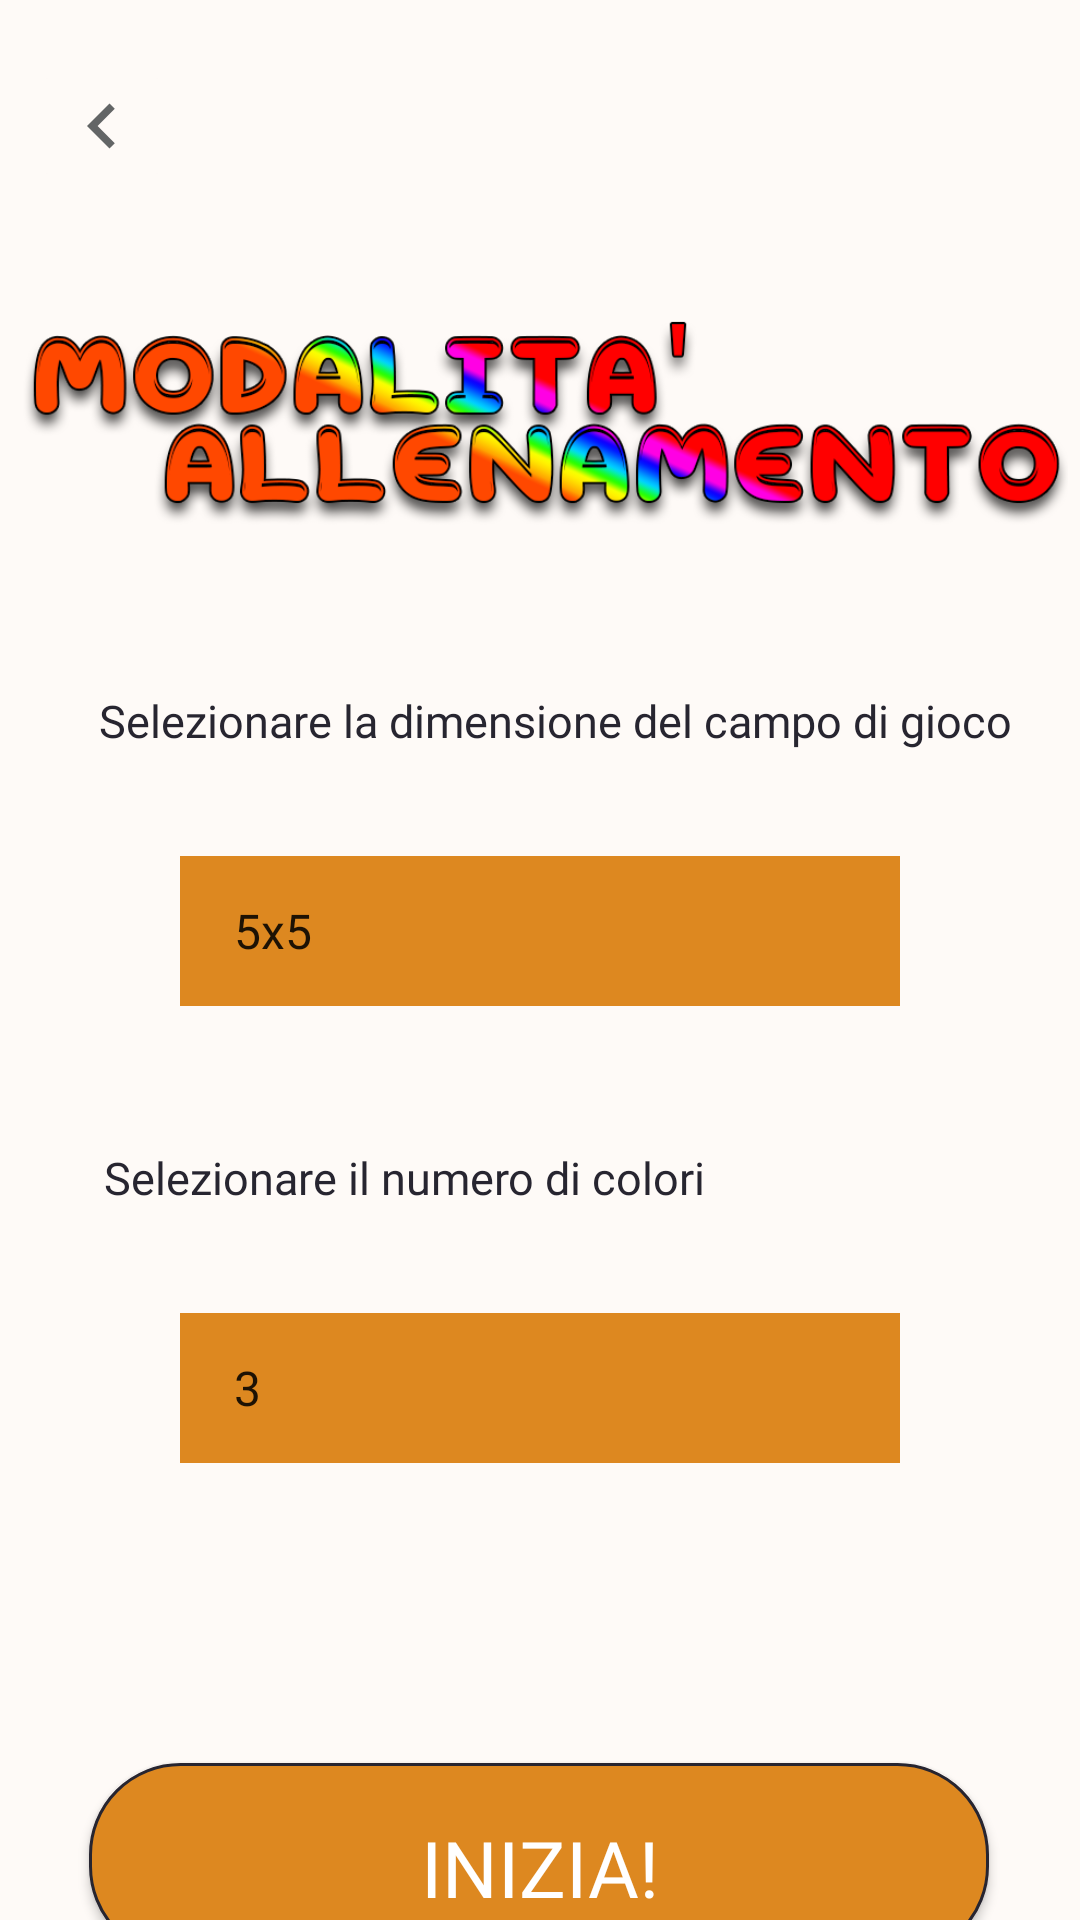

Named icons in this screenshot (1080x1920) and their centers, point (x, y):
backbutton: point (101, 126)
